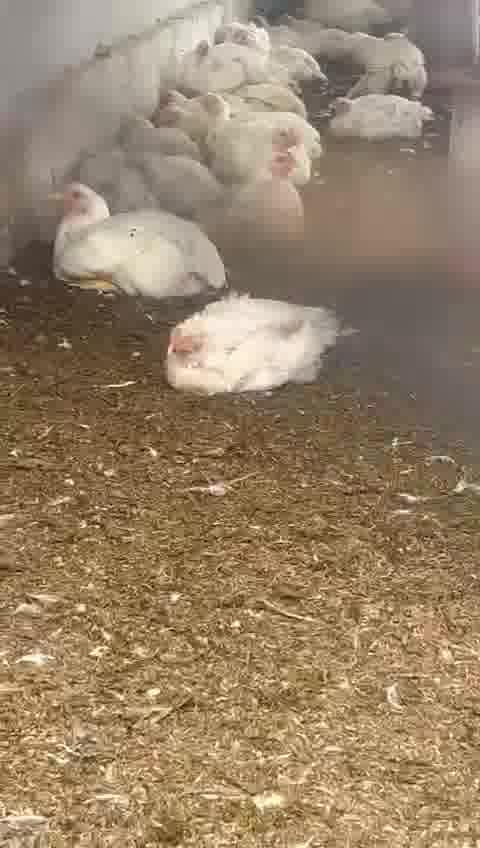AbNormal: (166, 290, 345, 395), (114, 113, 191, 176), (80, 146, 159, 206), (145, 89, 218, 145), (175, 38, 231, 103)
Normal: (46, 171, 224, 303), (211, 151, 307, 231), (320, 93, 441, 146), (213, 110, 321, 166)
